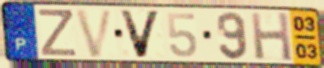5: (166, 12, 199, 59)
9: (215, 10, 250, 62)
H: (248, 11, 295, 63)
V: (117, 8, 164, 60), (73, 8, 117, 59)
Z: (36, 7, 79, 58)
